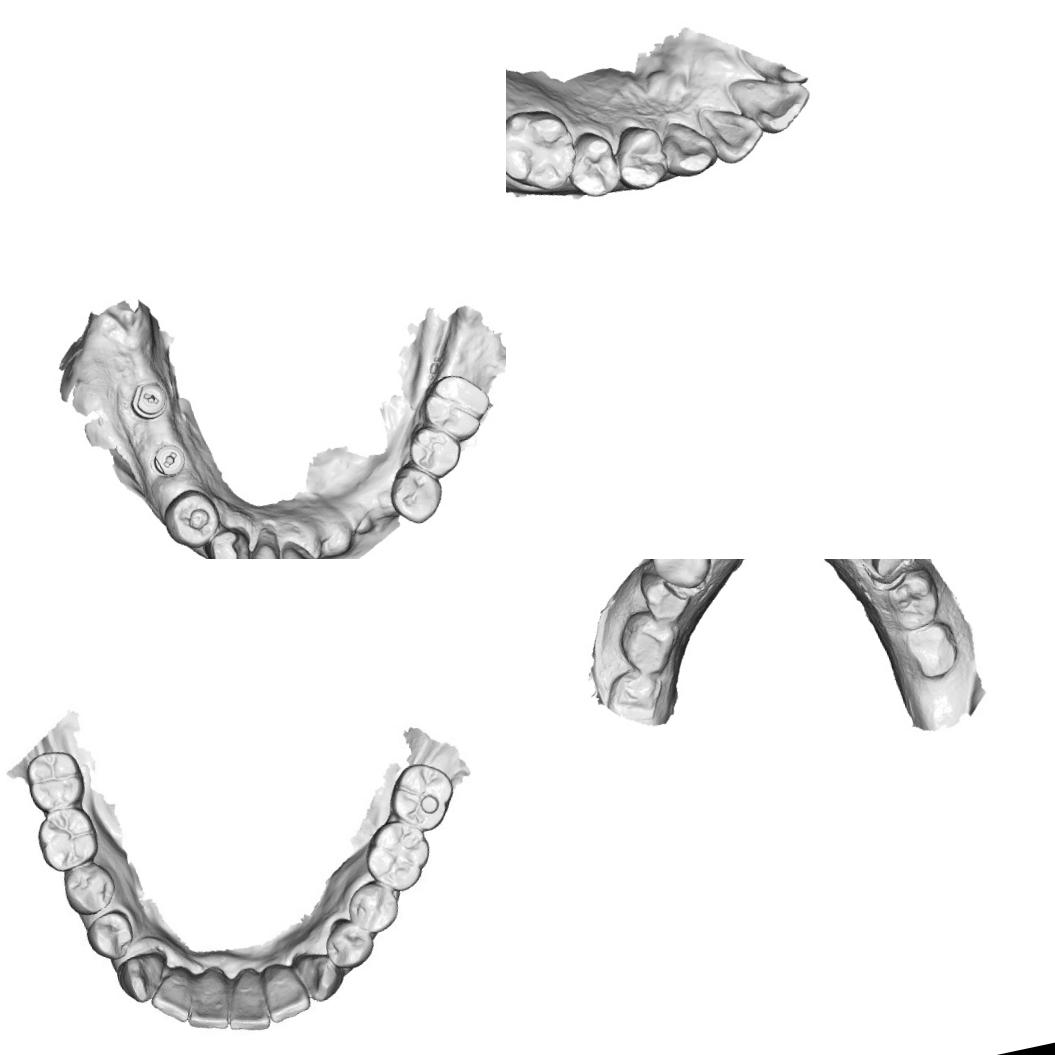canine: (658, 111, 720, 182), (290, 945, 350, 1007), (113, 948, 172, 1006), (200, 522, 258, 559)
crown: (864, 559, 914, 579)
implant_minus: (125, 377, 173, 424), (150, 441, 188, 480)
incisor: (734, 64, 816, 140), (704, 94, 771, 168), (179, 967, 236, 1036), (219, 967, 273, 1038), (259, 958, 314, 1025), (144, 966, 199, 1029), (231, 525, 291, 559), (272, 538, 324, 559)
molar: (506, 103, 586, 201), (412, 367, 498, 450), (358, 814, 438, 898), (381, 756, 462, 838), (612, 602, 686, 681), (31, 802, 103, 876), (598, 662, 670, 730), (21, 745, 89, 815), (881, 562, 948, 633), (902, 618, 963, 684)
premolar: (382, 454, 450, 530), (157, 483, 226, 555), (565, 127, 627, 203), (610, 120, 670, 194), (403, 417, 467, 483), (342, 874, 408, 938), (632, 563, 690, 628), (60, 860, 120, 920), (319, 912, 378, 973), (82, 907, 138, 964), (643, 559, 717, 597)
